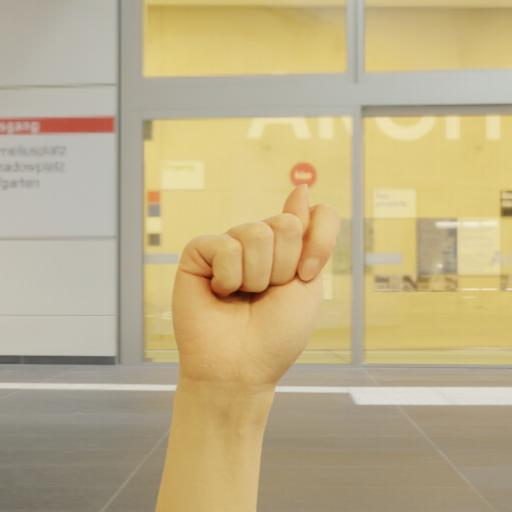T: (156, 162, 357, 512)
